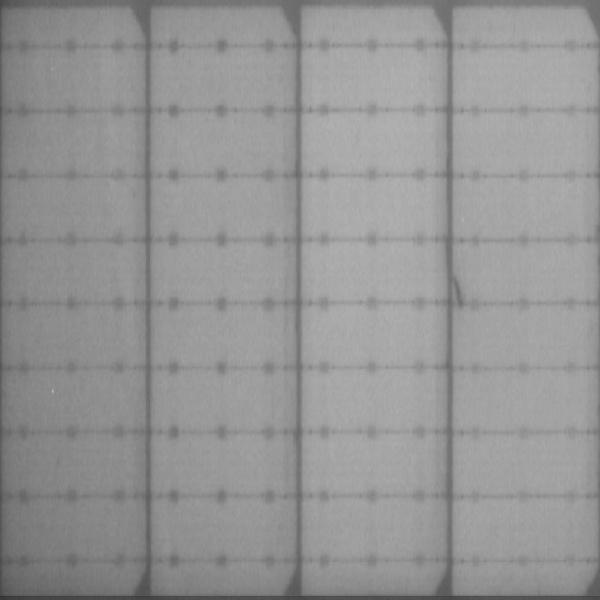scratch: (450, 274, 464, 308)
